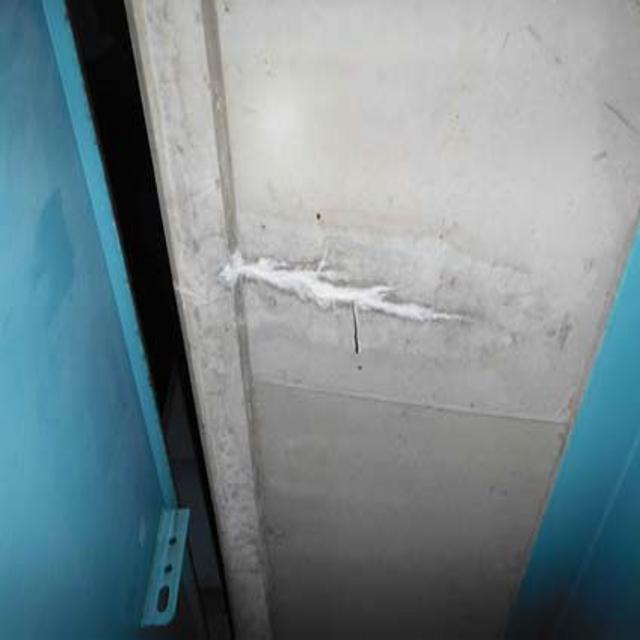freelime: (222, 240, 462, 334)
